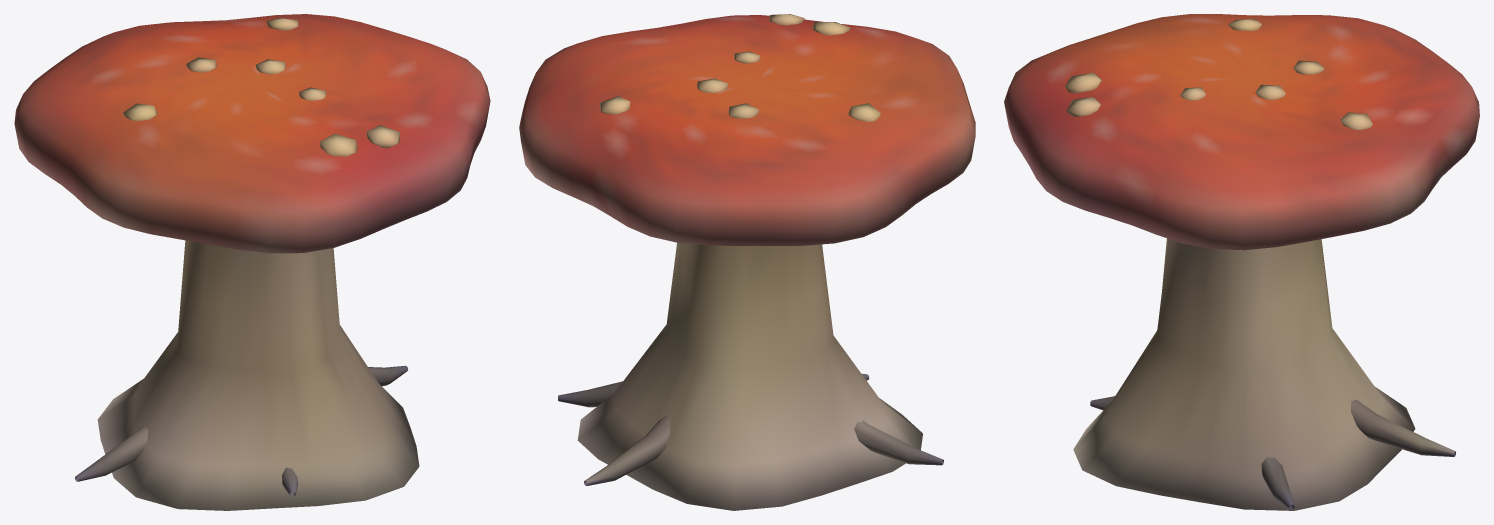
The model's file is mantar_tabure.glb.
3 views of the same model, side by side, from view 1: azimuth 30°, elevation 25°; view 2: azimuth 150°, elevation 25°; view 3: azimuth 270°, elevation 25° (orthographic).
Visible parts, largest first — view 1: mantar_tabure_LOD0; view 2: mantar_tabure_LOD0; view 3: mantar_tabure_LOD0.
Part boxes in pixels (x1,y1,x2,y2): mantar_tabure_LOD0: [14, 14, 490, 510]; mantar_tabure_LOD0: [519, 14, 975, 510]; mantar_tabure_LOD0: [1004, 14, 1479, 510].
Size of what is drawn, in the model's own units: 0.5601 by 0.4825 by 0.5715.
